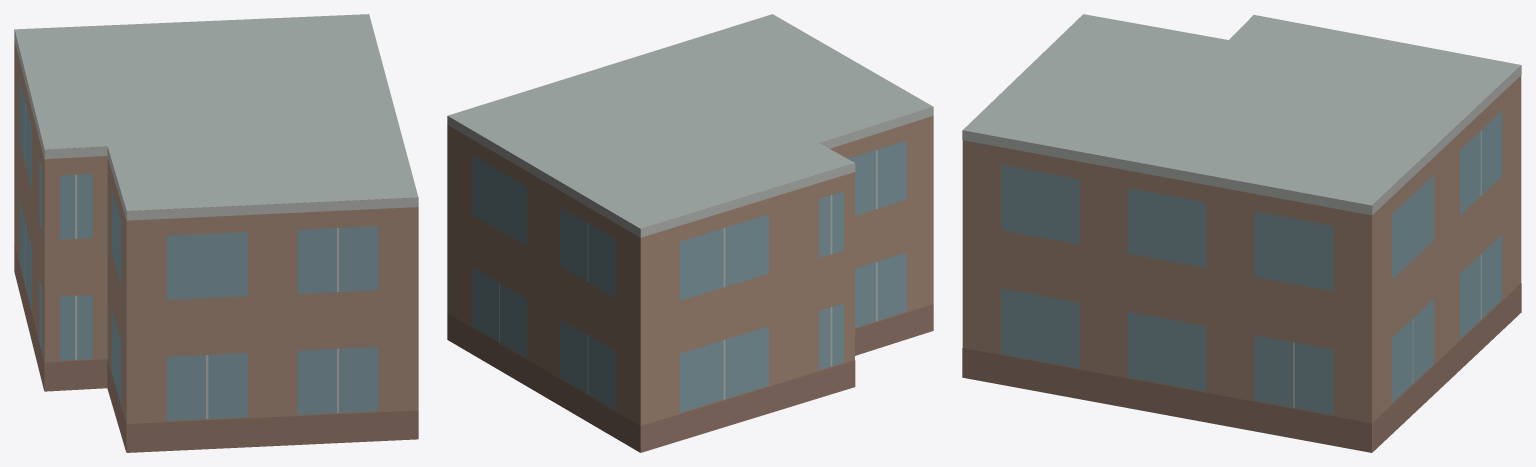
File: survey-upis-32698077.glb
3 views of the same model, side by side, from view 1: azimuth 30°, elevation 25°; view 2: azimuth 150°, elevation 25°; view 3: azimuth 270°, elevation 25° (orthographic). The views are drawn at different scales.
Visible parts, largest first — view 1: survey-upis-32698077.tmp; view 2: survey-upis-32698077.tmp; view 3: survey-upis-32698077.tmp.
Boxes of the visible parts, bbox=[...] form: survey-upis-32698077.tmp: bbox=[14, 14, 418, 452]; survey-upis-32698077.tmp: bbox=[447, 14, 933, 452]; survey-upis-32698077.tmp: bbox=[962, 14, 1521, 452].
Bounding box in the file's own units: 10.14 × 6.1 × 12.5.
